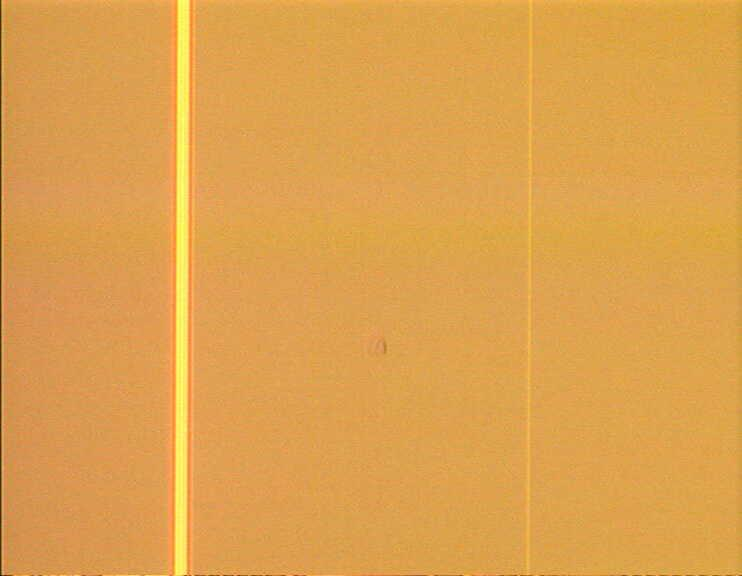PIQ PARTICLE: (363, 332, 395, 364)
